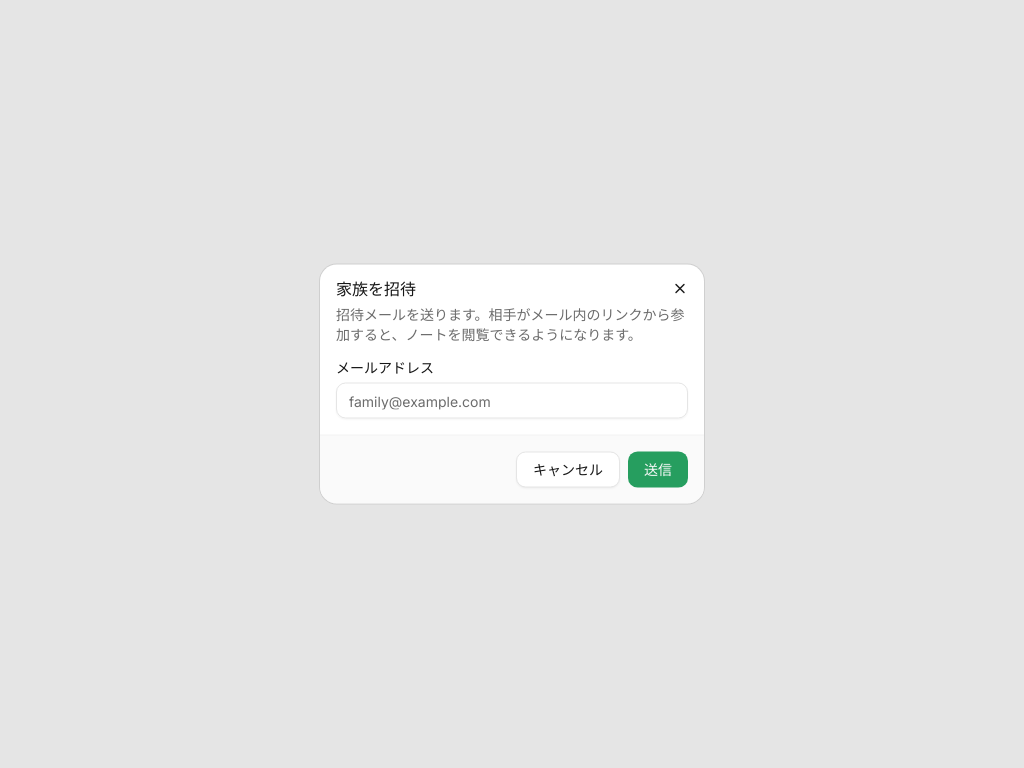
Test: InviteDialog › 空文字で送信すると必須エラーを表示する
The image size is (1024, 768).
What coordinates should you click on to do the following:
click the button "送信"
I would click on:
 (658, 470)
Its box is [628,452,688,488].
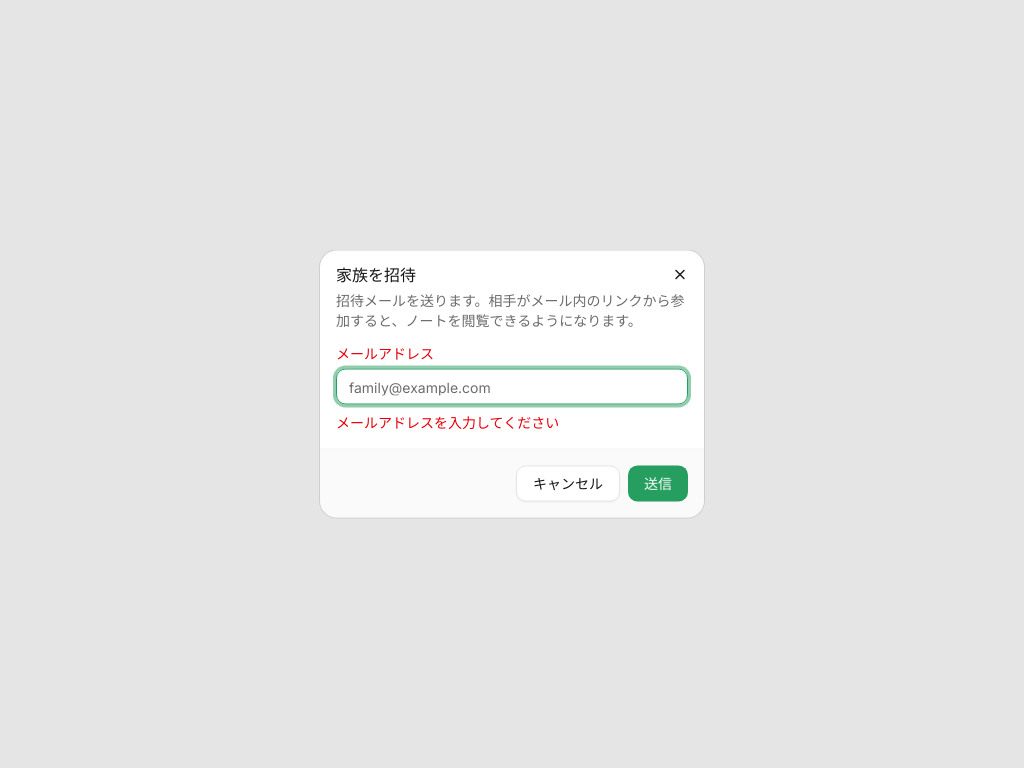
Now the text "メールアドレスを入力してください" is shown, box [336,414,559,430]
